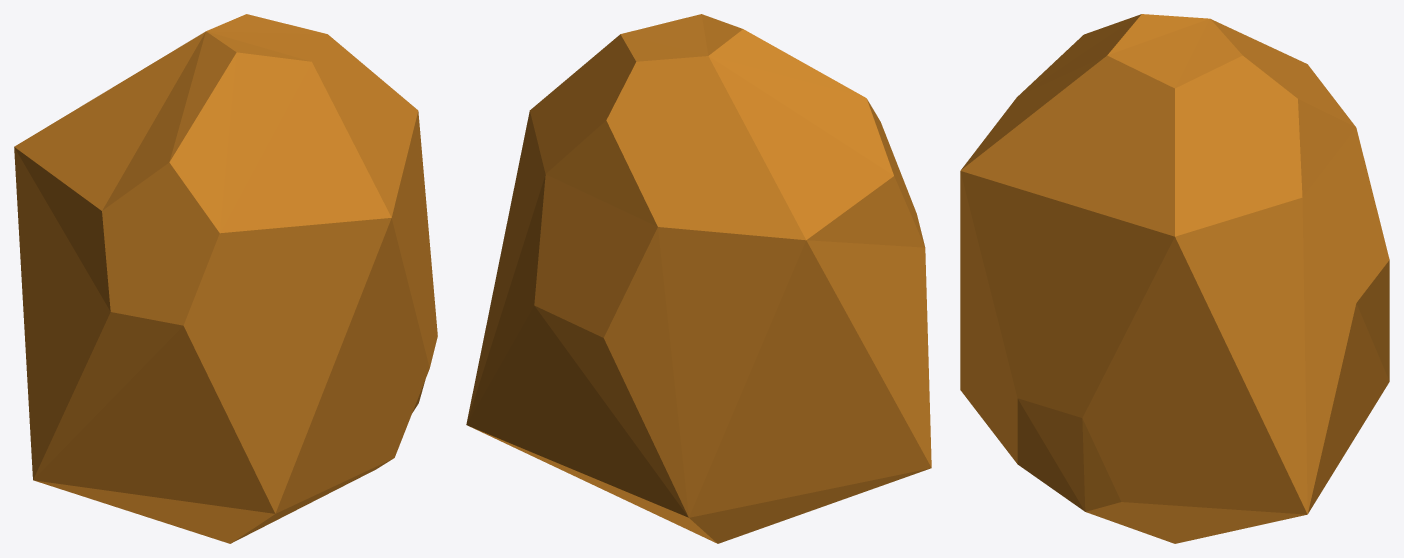
File: rock.obj
3 views of the same model, side by side, from view 1: azimuth 30°, elevation 25°; view 2: azimuth 150°, elevation 25°; view 3: azimuth 270°, elevation 25° (orthographic). The views are drawn at different scales.
Visible parts, largest first — view 1: Icosphere_Icosphere.001; view 2: Icosphere_Icosphere.001; view 3: Icosphere_Icosphere.001.
Part boxes in pixels (bbox=[...]): Icosphere_Icosphere.001: bbox=[14, 14, 437, 543]; Icosphere_Icosphere.001: bbox=[466, 14, 931, 543]; Icosphere_Icosphere.001: bbox=[960, 14, 1389, 543].
Size of the model in its own units: 1.87 by 2.3 by 1.7.
